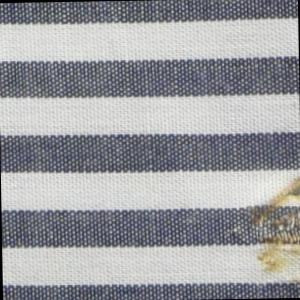Damage: (221, 208, 300, 271)
Oil Stain: (246, 175, 300, 287)
